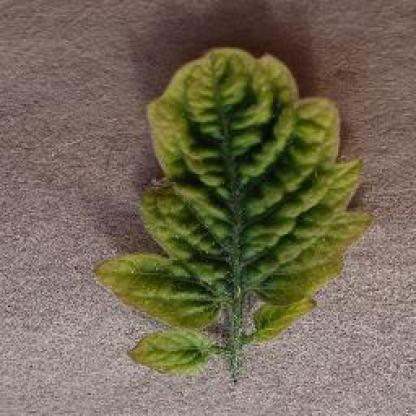bad leaf: (94, 32, 361, 361)
